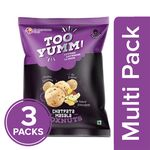plastic: (20, 18, 111, 137)
tooyumm: (37, 33, 87, 55)
wrapper: (18, 17, 110, 137)
